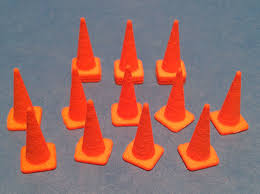cones: (176, 105, 221, 172), (155, 67, 195, 133), (123, 102, 163, 167), (7, 69, 47, 132), (73, 104, 112, 166), (20, 111, 58, 174), (212, 72, 248, 137), (109, 69, 145, 127), (156, 21, 188, 86), (112, 22, 144, 85), (71, 20, 103, 81), (62, 69, 94, 129)
